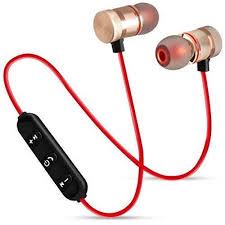earphone: (1, 2, 219, 214)
